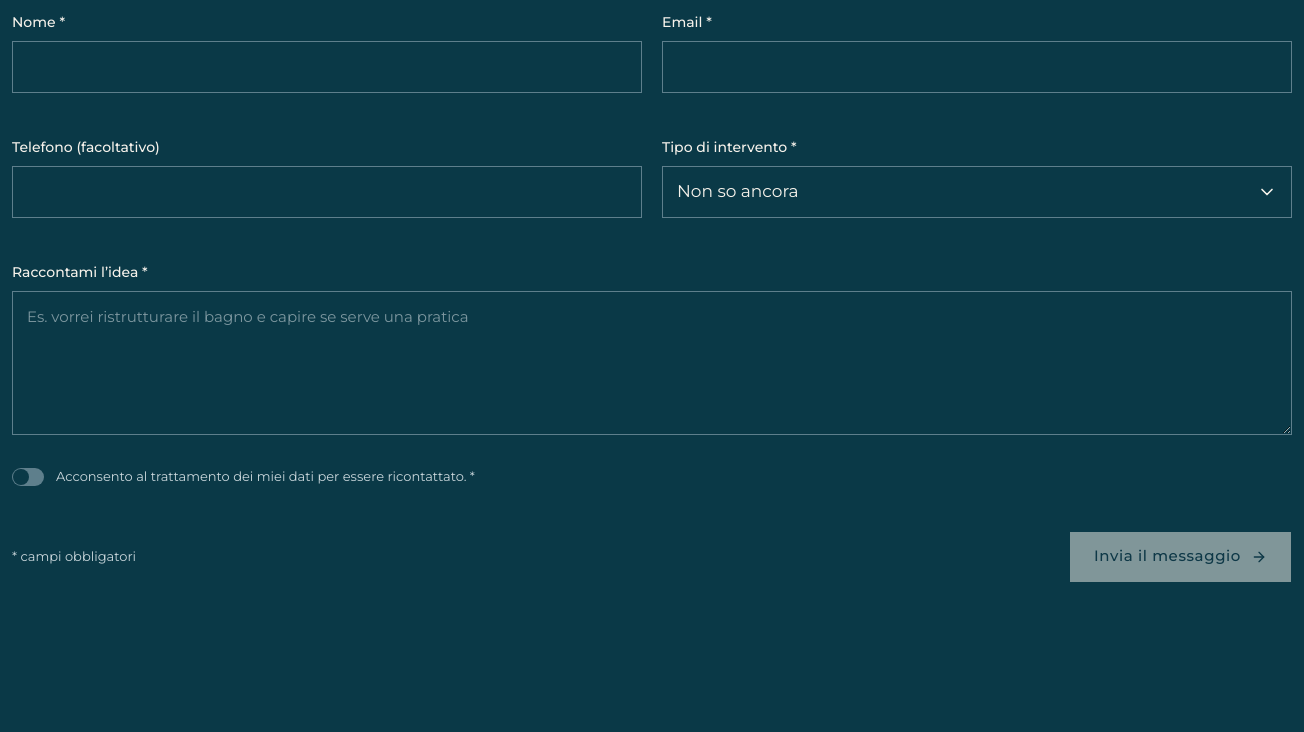
Scenario: ContactForm › counts a single error in the singular
The width and height of the screenshot is (1304, 732).
Type "Mario Bianchi" into the field labelled "Nome *". click: (327, 67)
box: [12,41,642,93]
Type "mario@example.com" into the field labelled "Email *". click: (977, 67)
box: [662,41,1292,93]
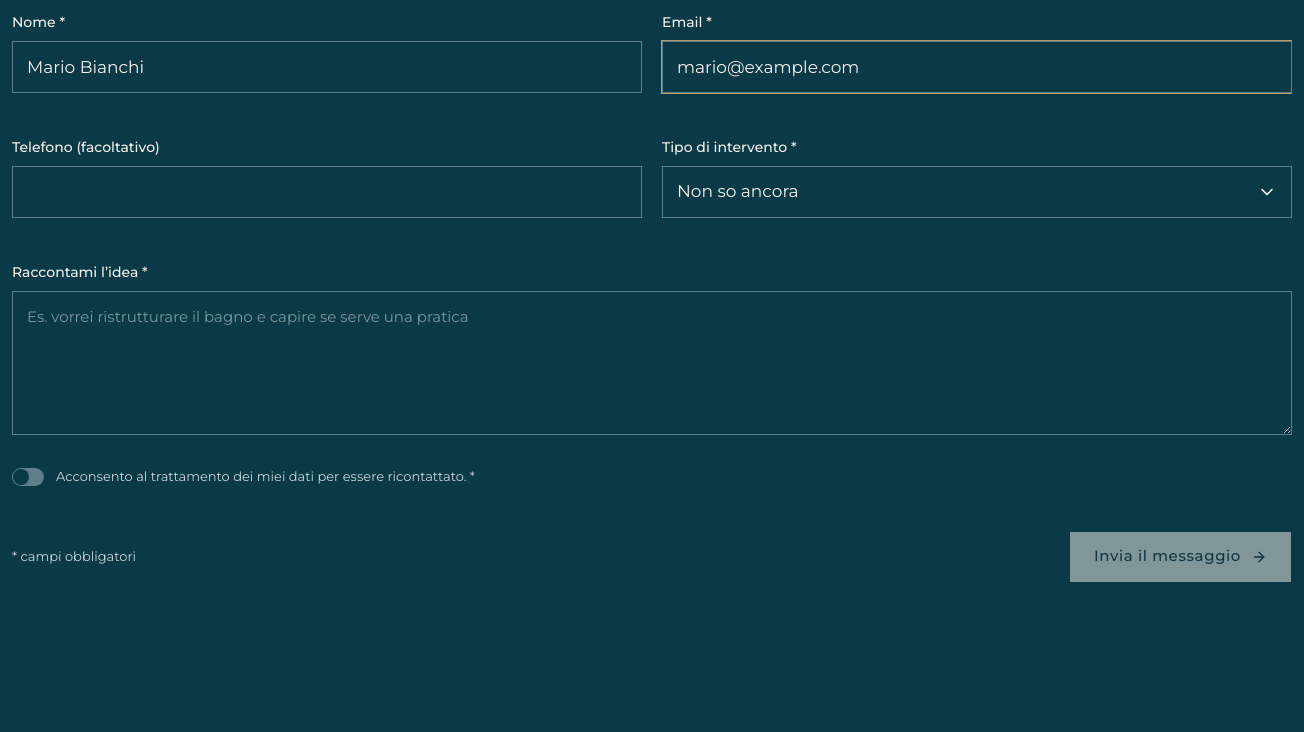
Click the dropdown named "Tipo di intervento *". click: (738, 191)
box: [662,166,1292,218]
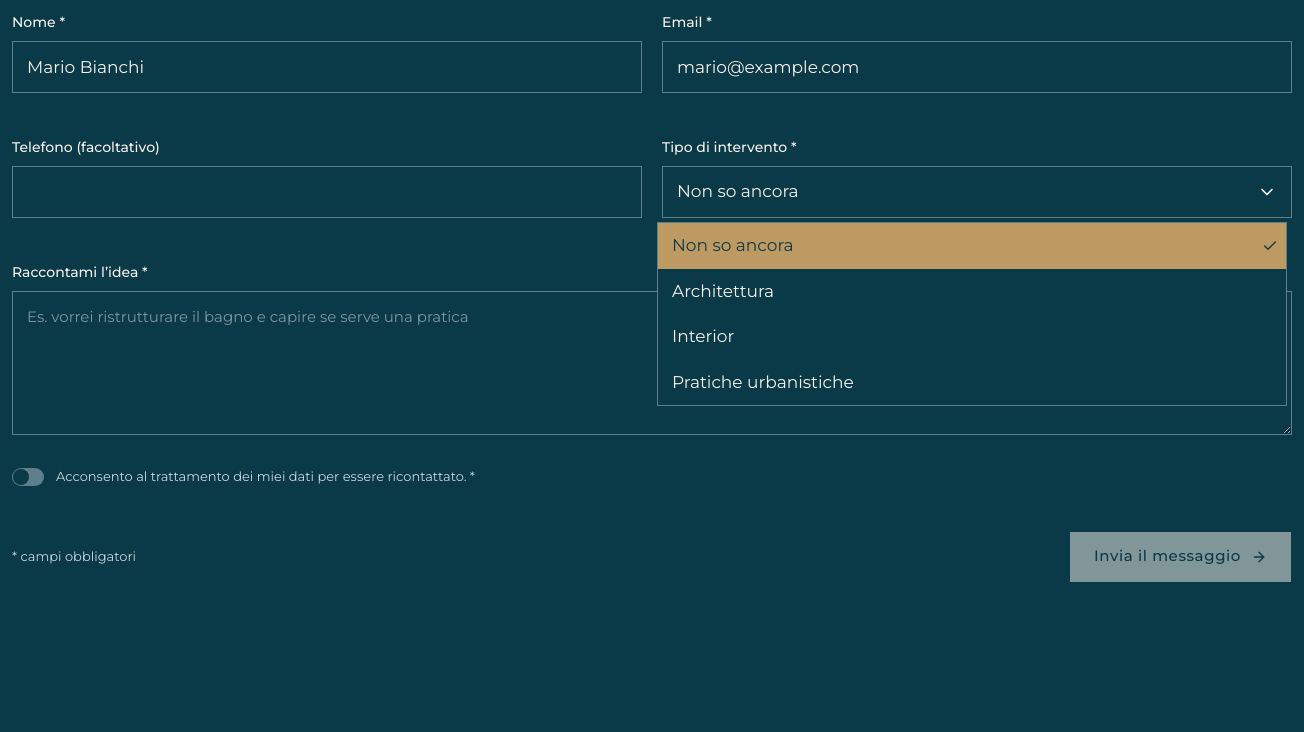
Click the option "Pratiche urbanistiche". click: (763, 382)
box: [672,372,854,392]
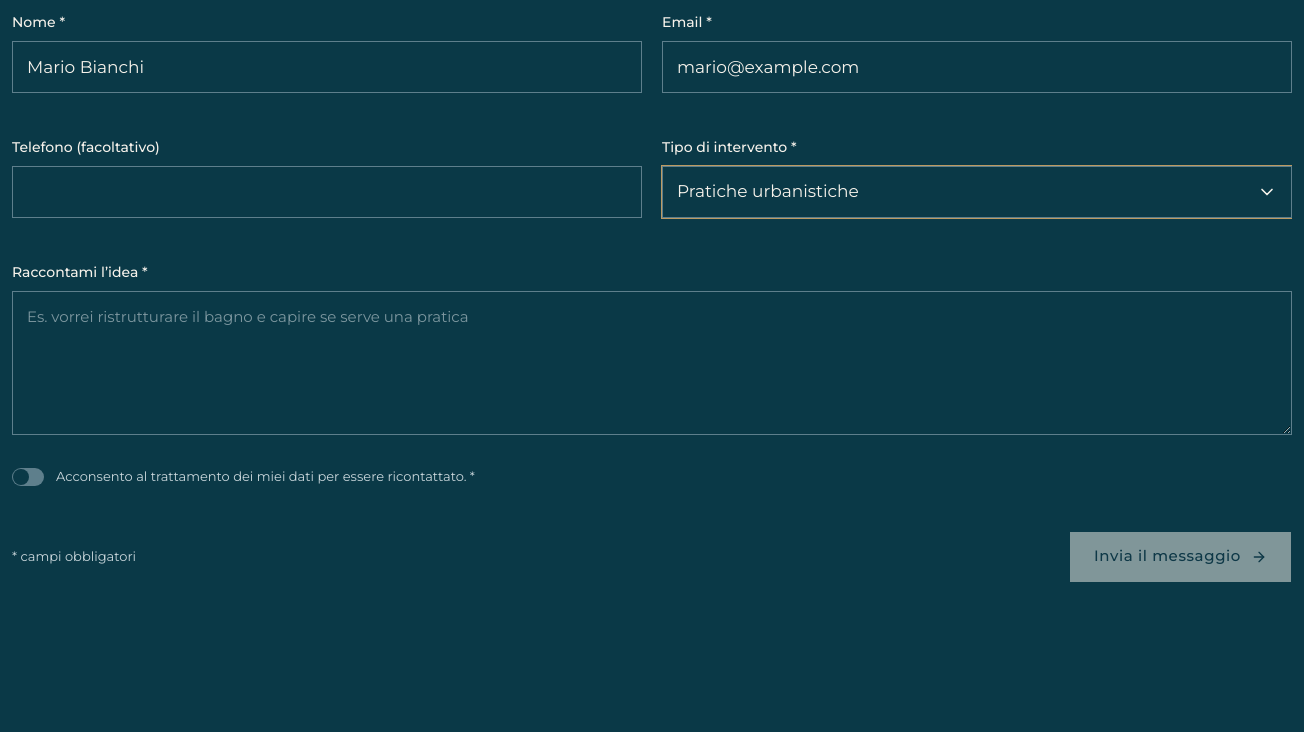
Type "Vorrei ristrutturare il bagno." into the text box labelled "Raccontami l’idea *". click: (652, 363)
box: [12,291,1292,435]
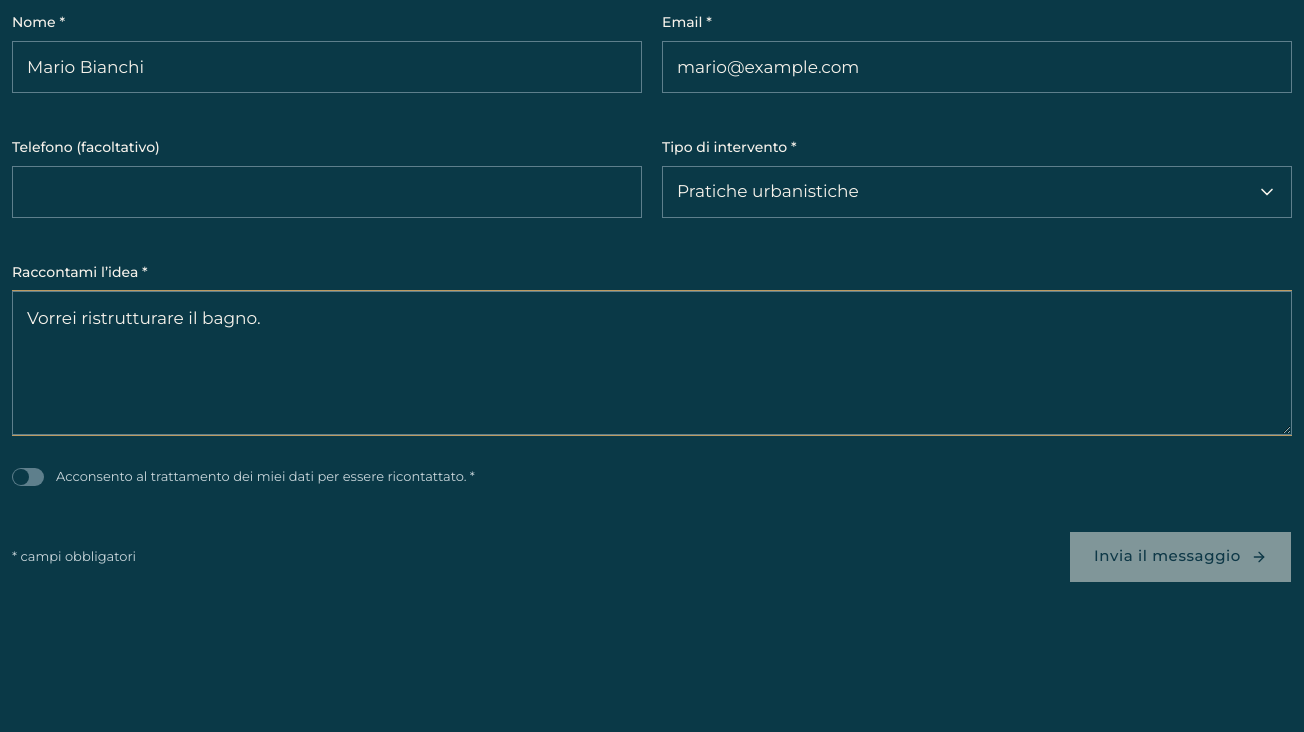
Click the switch named "trattamento dei miei dati". click: (28, 477)
box: [12,468,44,486]
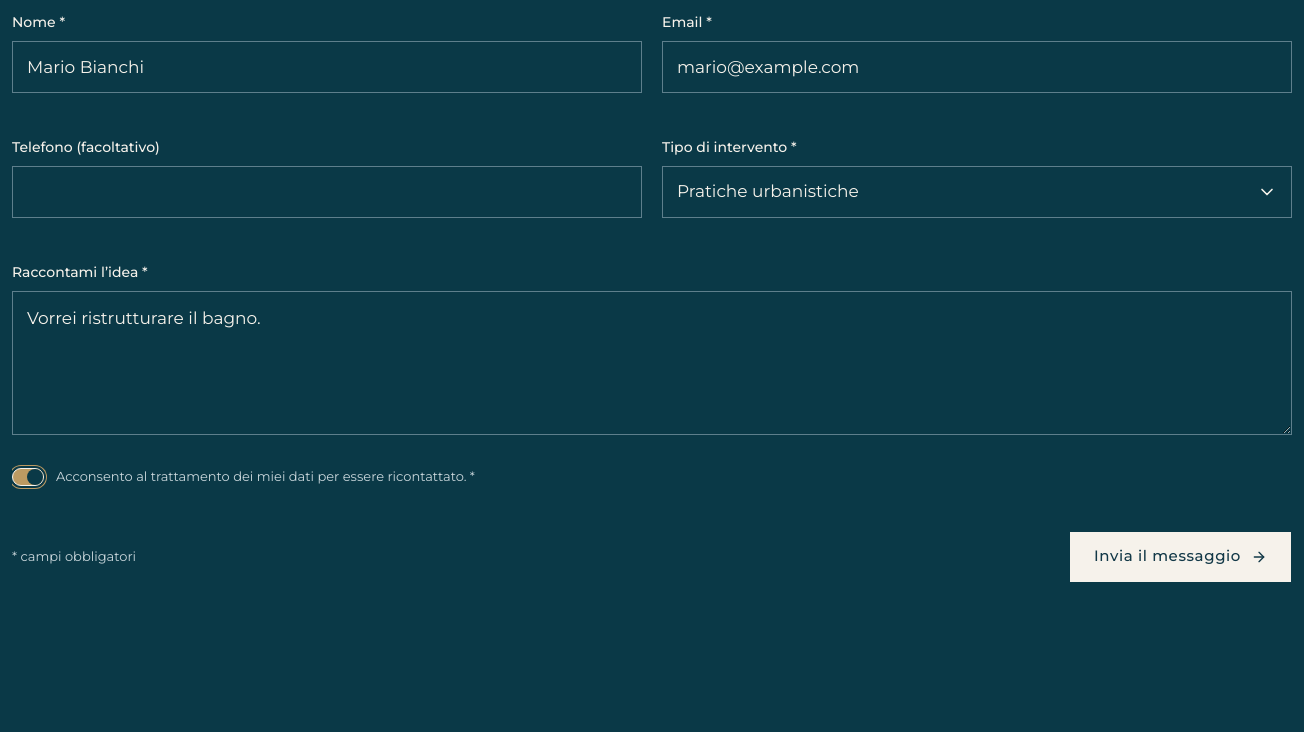
Replace the text in the text box labelled "Raccontami l’idea *" with "Ciao". click: (652, 363)
box: [12,291,1292,435]
Click the button "Invia il messaggio". click: (1180, 556)
box: [1069,530,1292,582]
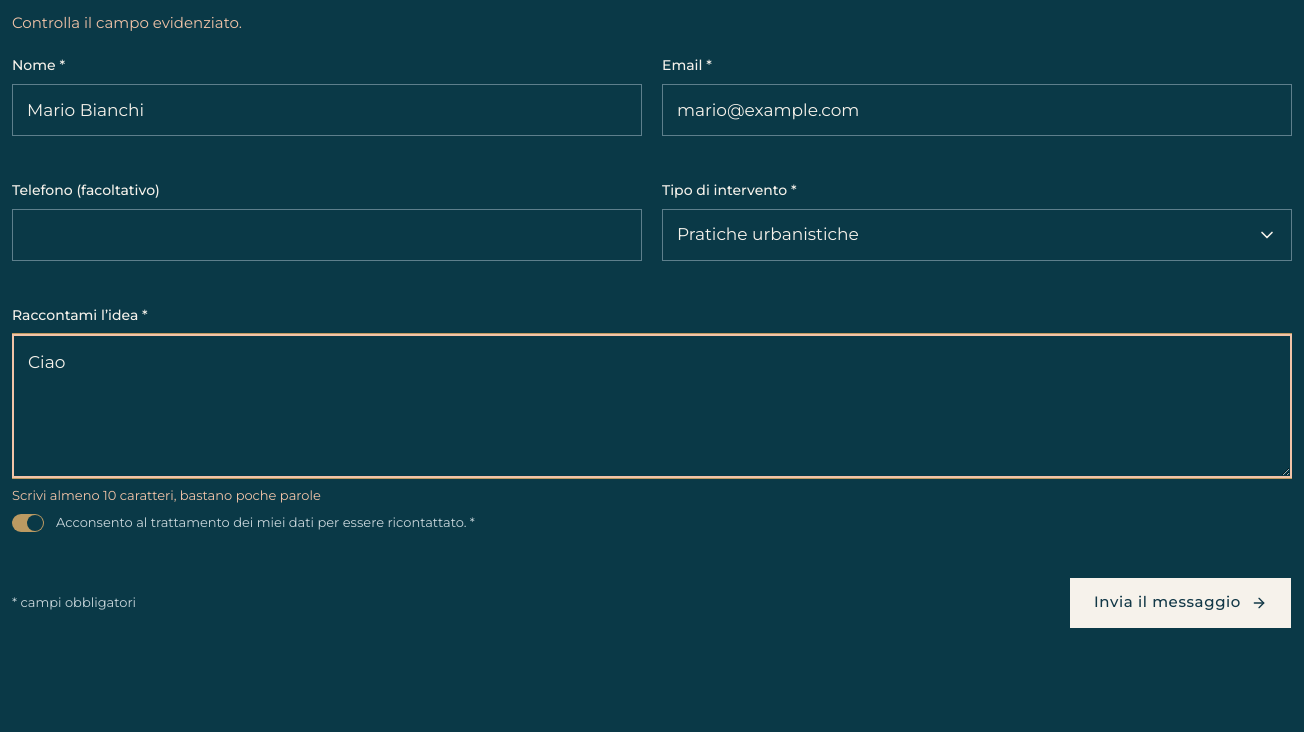
Now the text "Controlla il campo evidenziato." is shown, box [12,13,242,32]
